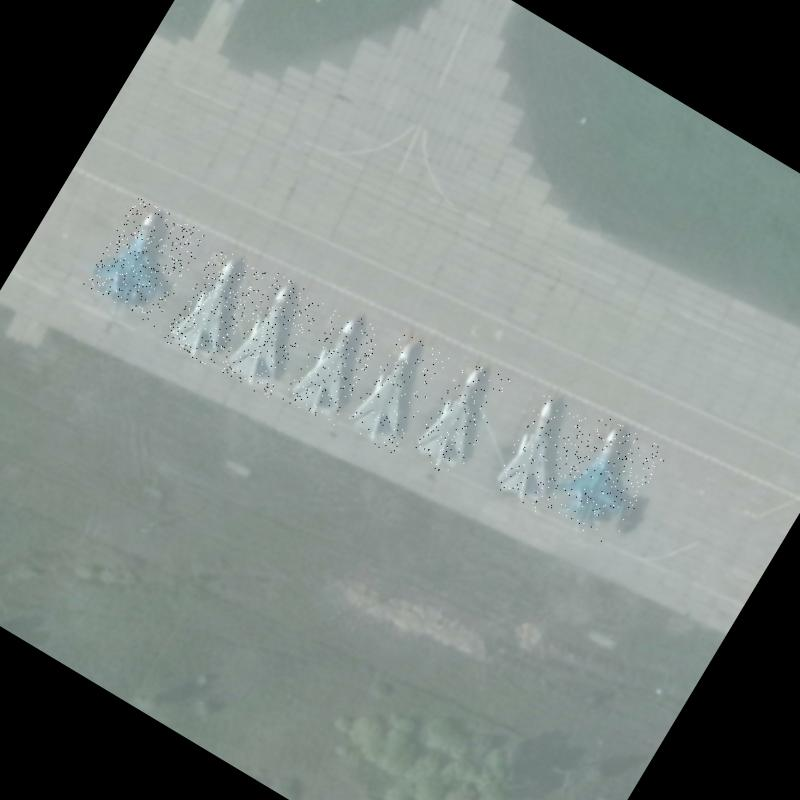A19: (542, 410, 669, 548), (82, 193, 208, 327)
A20: (217, 272, 326, 400), (280, 304, 390, 430), (342, 329, 450, 456), (161, 244, 269, 370), (408, 354, 513, 480), (488, 389, 594, 512)
